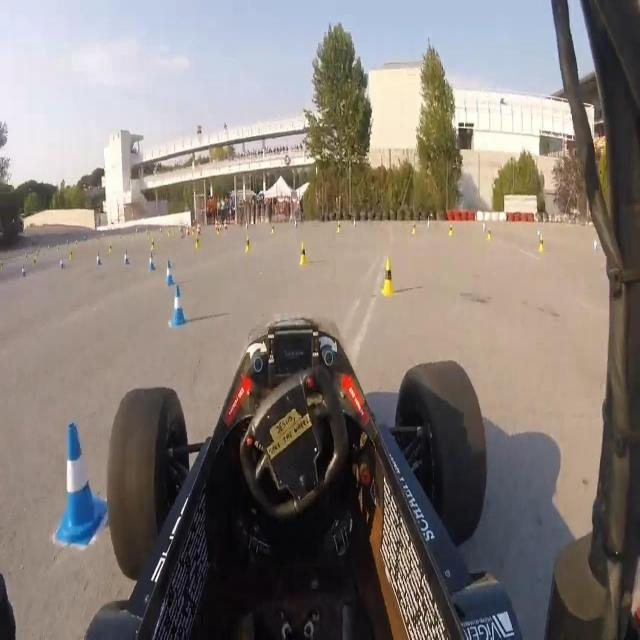blue_cone: (46, 420, 107, 552), (168, 284, 188, 332), (164, 256, 177, 287), (147, 251, 156, 274), (123, 249, 130, 269), (96, 250, 102, 268), (21, 263, 26, 279), (536, 226, 541, 242), (59, 260, 65, 272)
yellow_cone: (378, 257, 397, 299), (297, 242, 308, 268), (244, 234, 251, 254), (194, 235, 201, 254), (486, 228, 493, 244), (538, 237, 544, 255), (150, 238, 156, 254), (336, 220, 342, 236), (448, 225, 453, 239), (69, 250, 74, 262), (412, 223, 416, 237), (109, 241, 112, 255)
